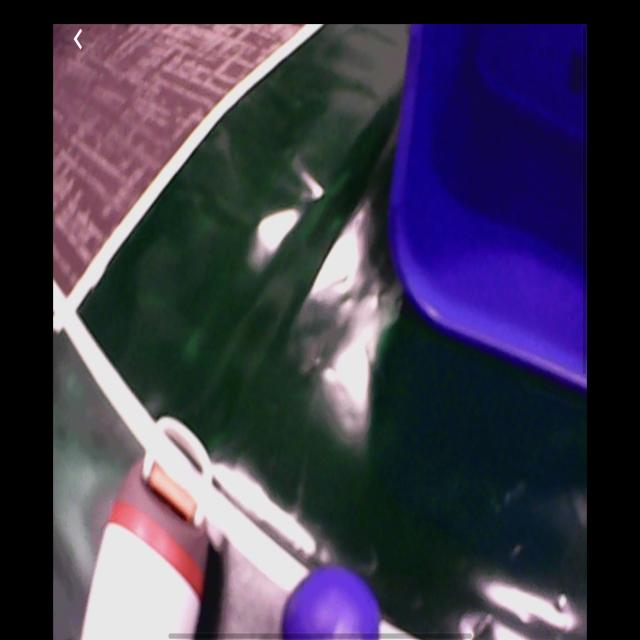ball: (280, 569, 388, 640)
